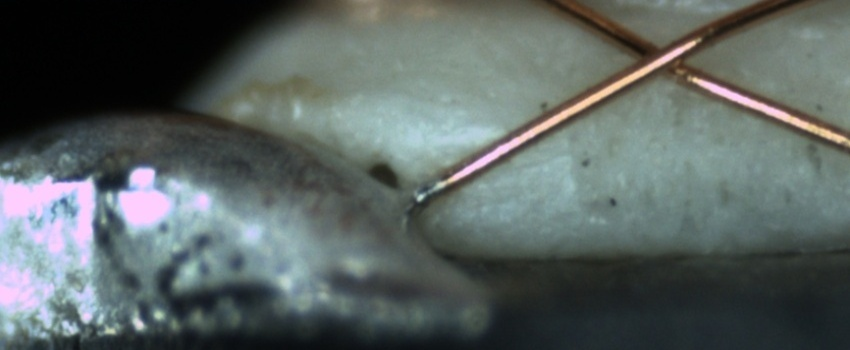CL: (607, 20, 720, 90)
TS: (410, 176, 444, 208)
